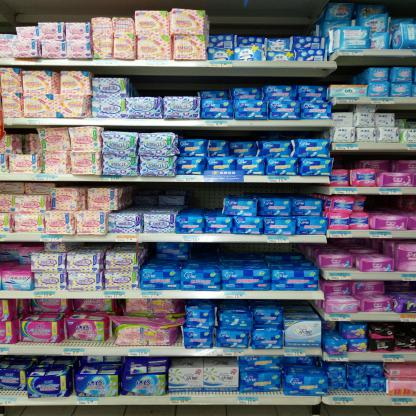Void: (190, 245, 303, 262), (130, 74, 196, 98), (201, 73, 326, 84), (183, 184, 219, 214), (366, 195, 404, 215), (123, 186, 156, 209), (331, 237, 380, 252), (337, 63, 366, 84), (327, 389, 388, 398), (329, 152, 355, 170), (388, 283, 414, 295), (394, 106, 414, 118), (335, 107, 355, 112)
